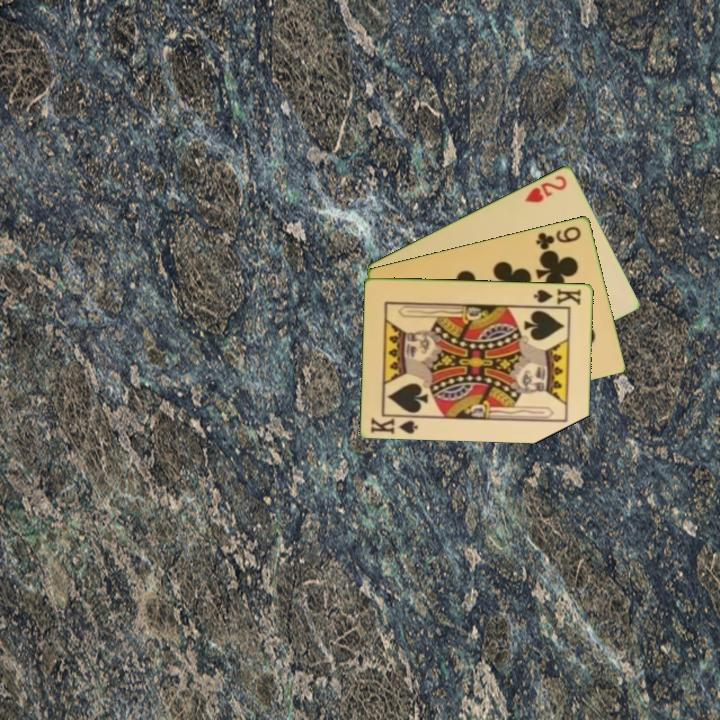2h: (521, 171, 570, 205)
9c: (532, 222, 584, 252)
Ks: (368, 412, 423, 437), (530, 285, 584, 308)
